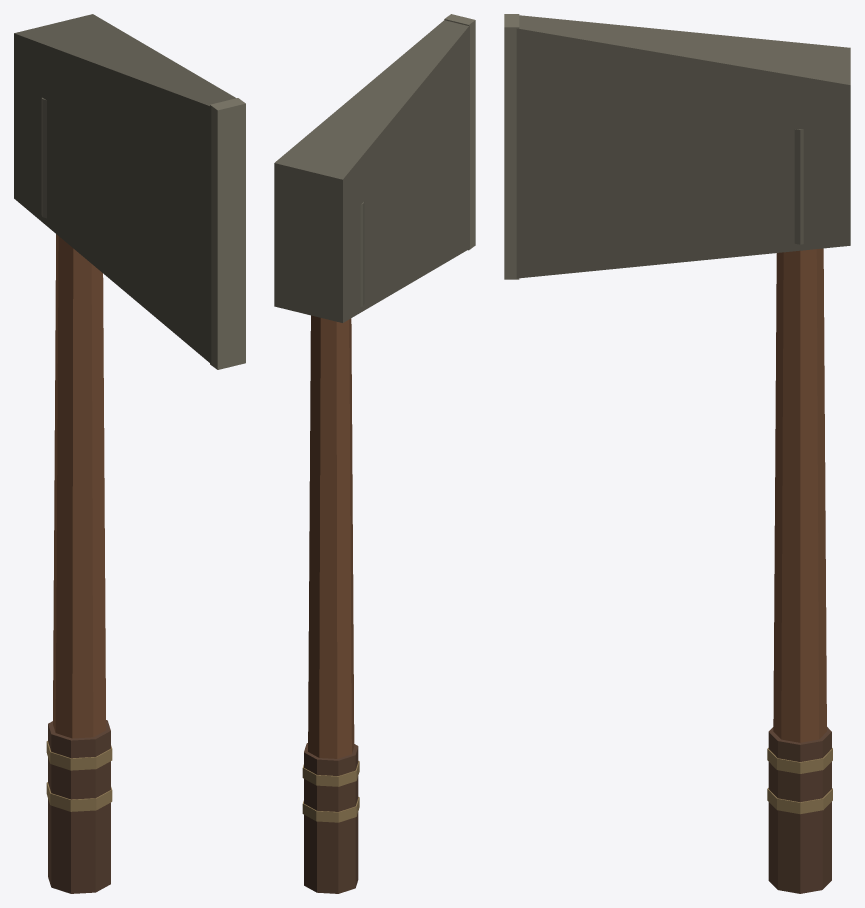
The model's file is tool_axe_base.glb.
The picture shows the model from 3 angles, left to right: view 1: azimuth 30°, elevation 25°; view 2: azimuth 150°, elevation 25°; view 3: azimuth 270°, elevation 25°; orthographic projection. The views are drawn at different scales.
Visible parts, largest first — view 1: tool_axe_base; view 2: tool_axe_base; view 3: tool_axe_base.
Boxes of the visible parts, x1=… form: tool_axe_base: x1=14, y1=14, x2=245, y2=893; tool_axe_base: x1=274, y1=14, x2=475, y2=893; tool_axe_base: x1=504, y1=14, x2=850, y2=893.
Size of the model in its own units: 0.07 by 0.75 by 0.274.
